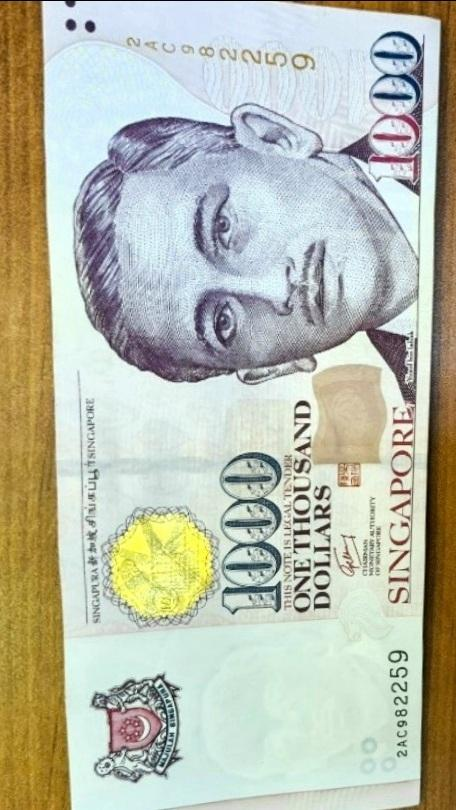1000SingaporeDollar: (65, 0, 425, 810)
